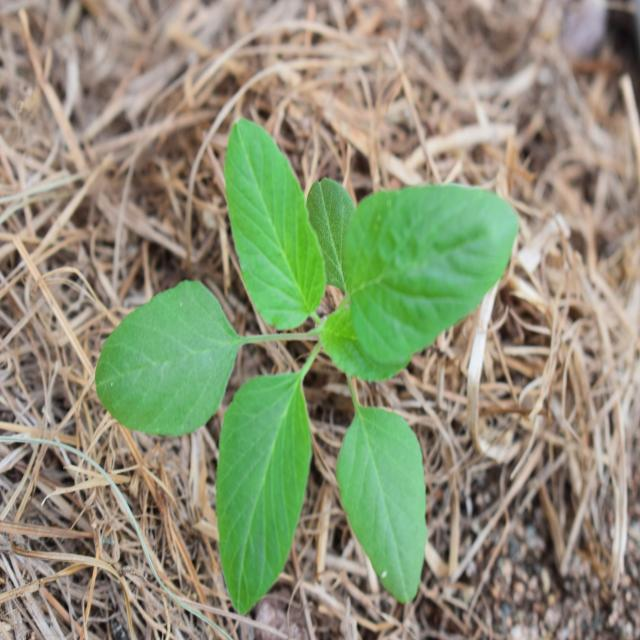pigweed: (94, 116, 480, 568)
